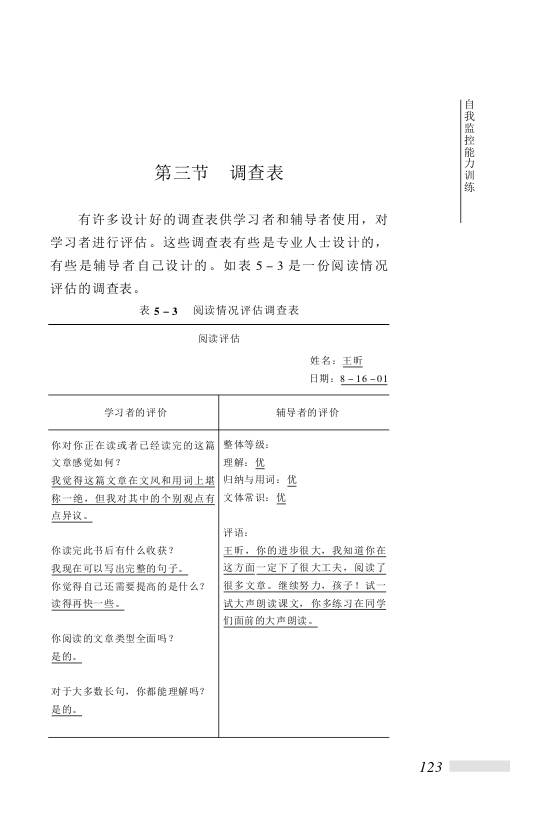table: (48, 324, 390, 738)
